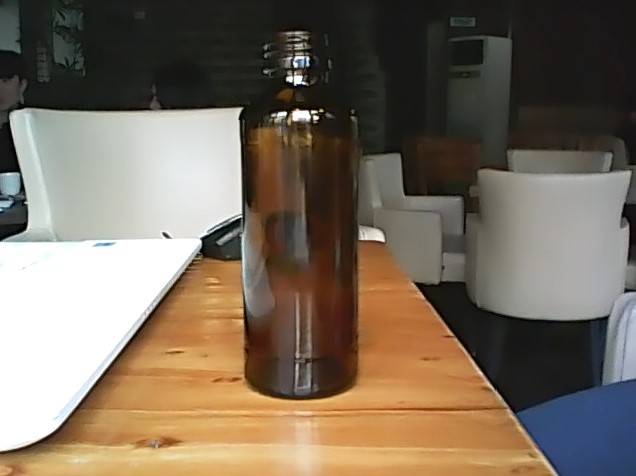Glass: (233, 26, 365, 401)
